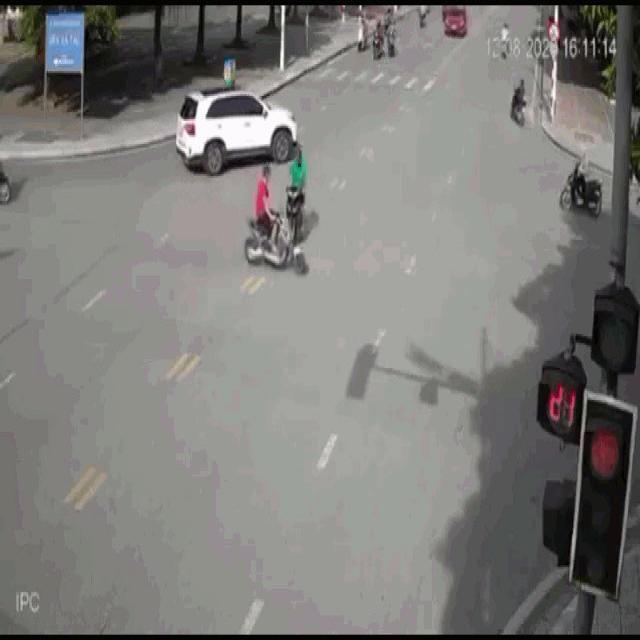multiple_accident: (240, 143, 316, 285)
